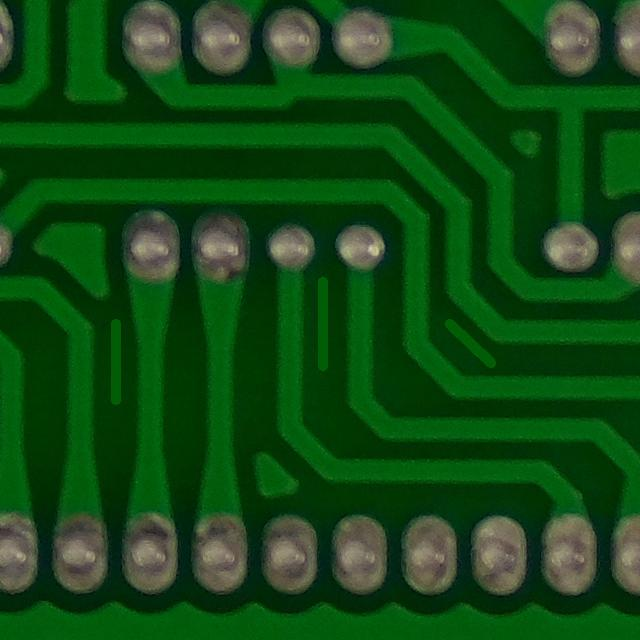spurious_copper: (292, 260, 349, 380)
